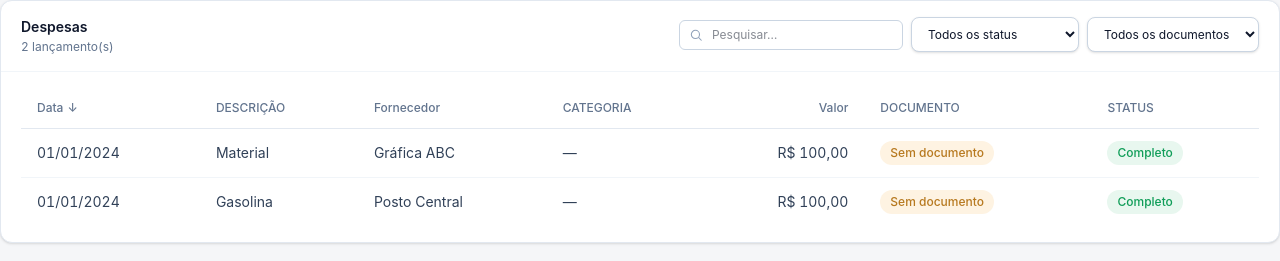
ExpensesPage › filters the real list client-side by supplier name as the user types
The image size is (1280, 261).
Check: the text "Posto Central" is shown, box [358,178,547,226]
Check: the text "Gráfica ABC" is shown, box [358,128,547,178]
Type "gráfica" into the search field with placeholder "Pesquisar…" at (791, 34), box [679,20,903,50]
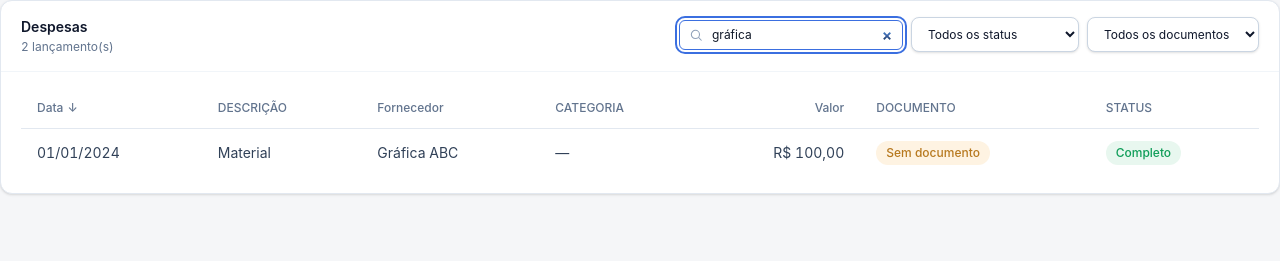
Check: the text "Gráfica ABC" is shown, box [361,128,539,177]
Check: the text "Posto Central" is gone
